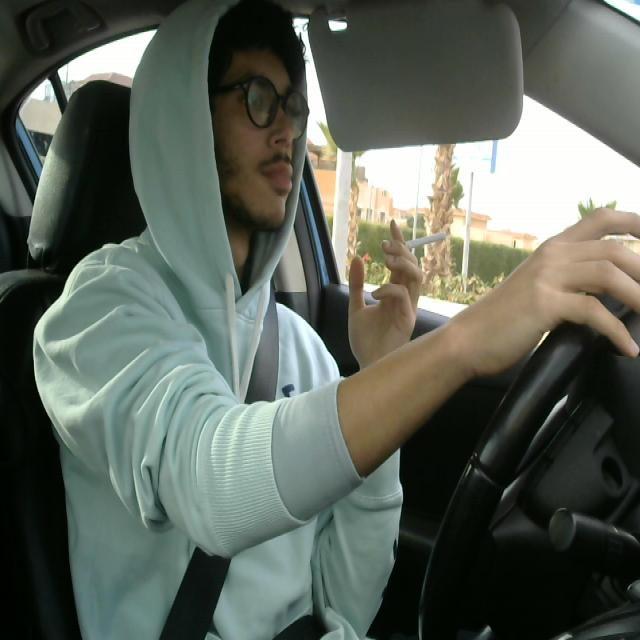smoking: (383, 233, 451, 253)
